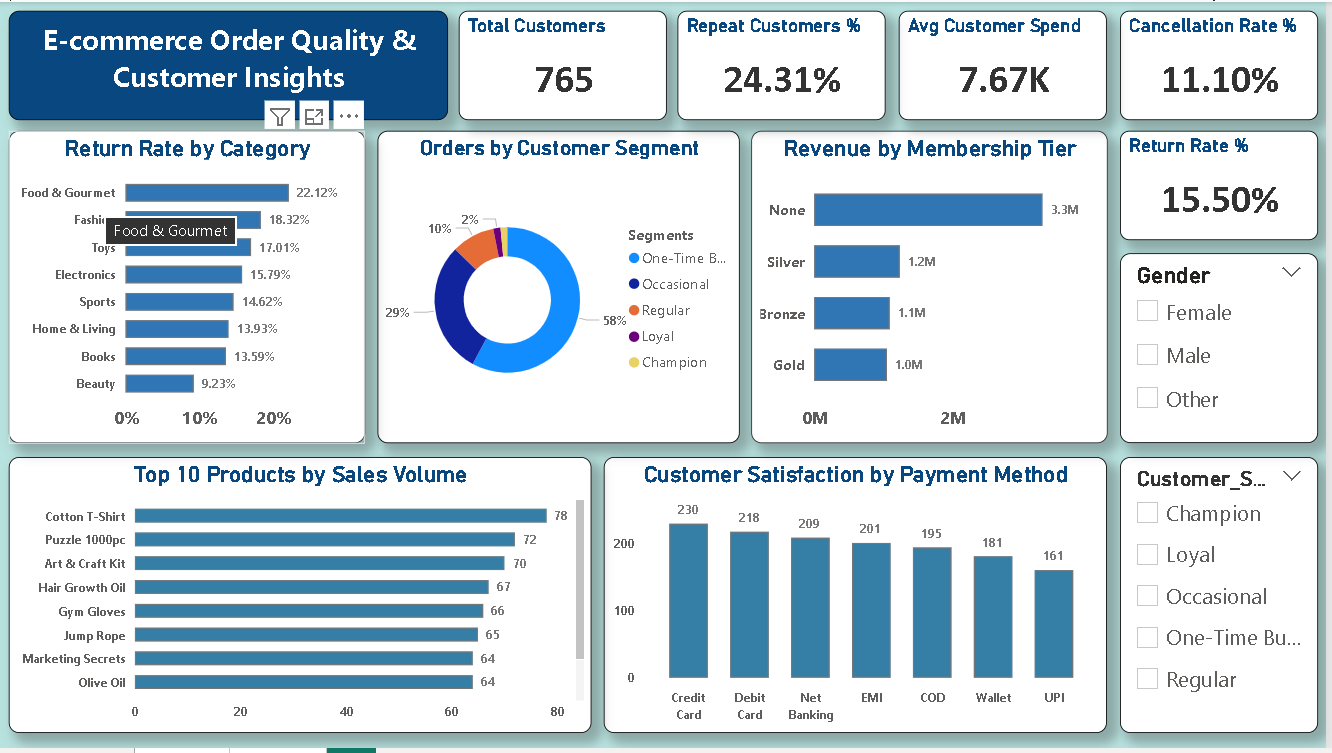

The page's visual inventory and layout, read from the dashboard file:
{"tool":"powerbi","page":{"name":"Order Quality & Customer Insight","canvas":[1280,720],"ordinal":1},"visuals":[{"type":"textbox","box":[8.6,8.6,423.9,106],"z":0},{"type":"columnChart","title":"Customer Satisfaction by Payment Method","fields":{"Category":["Orders_Raw.Payment_Method"],"Y":["Sum(Orders_Raw.Customer_Rating)"]},"box":[582.8,438.7,485.5,266.2],"z":1000},{"type":"donutChart","title":"Orders by Customer Segment","fields":{"Y":["Orders_Raw.Total Orders"],"Category":["Customer_Profiles.Customer_Segment"]},"box":[364.7,124.5,349.9,301.9],"z":2000},{"type":"barChart","title":"Top 10 Products by Sales Volume","fields":{"Category":["Orders_Raw.Product_Name"],"Y":["Sum(Orders_Raw.Quantity)"]},"box":[8.2,439.1,562.6,266.2],"z":3000},{"type":"barChart","title":"Return Rate by Category","fields":{"Y":["Orders_Raw.Return Rate %"],"Category":["Orders_Raw.Category"]},"box":[8.6,124.5,343.8,301.9],"z":4000},{"type":"barChart","title":"Revenue by Membership Tier","fields":{"Category":["Orders_Raw.Membership_Tier"],"Y":["Orders_Raw.Total Revenue"]},"box":[724.5,124.5,343.8,301.9],"z":5000},{"type":"card","title":"Cancellation Rate %","fields":{"Values":["Orders_Raw.Cancellation Order %"]},"box":[1080.6,8.6,191,106],"z":6000},{"type":"card","title":"Avg Customer Spend","fields":{"Values":["Customer_Profiles.Average Customer Spend"]},"box":[867.5,8.6,200.8,106],"z":7000},{"type":"card","title":"Total Customers","fields":{"Values":["Count(Customer_Profiles.Customer_ID)"]},"box":[442.4,8.6,200.8,106],"z":8000},{"type":"card","title":"Repeat Customers %","fields":{"Values":["Customer_Profiles.Repeat Cutomers %"]},"box":[654.3,8.6,200.8,106],"z":9000},{"type":"slicer","title":"Customer Segment","fields":{"Values":["Customer_Profiles.Customer_Segment"]},"box":[1080.6,438.7,191,266.2],"z":10000},{"type":"card","title":"Return Rate %","fields":{"Values":["Orders_Raw.Return Rate %"]},"box":[1080.6,124.5,191,106],"z":11000},{"type":"slicer","fields":{"Values":["Customer_Profiles.Gender"]},"box":[1080.6,242.7,191,183.6],"z":12000}]}

Visuals, with their boxes in screenshot pixels (x1, y1, x2, y2), scaled from the page's 1280x720 canvas onto the 1332x753 screenshot:
textbox: bbox=(9, 9, 450, 120)
"Customer Satisfaction by Payment Method" columnChart: bbox=(606, 459, 1112, 737)
"Orders by Customer Segment" donutChart: bbox=(380, 130, 744, 446)
"Top 10 Products by Sales Volume" barChart: bbox=(9, 459, 594, 738)
"Return Rate by Category" barChart: bbox=(9, 130, 367, 446)
"Revenue by Membership Tier" barChart: bbox=(754, 130, 1112, 446)
"Cancellation Rate %" card: bbox=(1124, 9, 1323, 120)
"Avg Customer Spend" card: bbox=(903, 9, 1112, 120)
"Total Customers" card: bbox=(460, 9, 669, 120)
"Repeat Customers %" card: bbox=(681, 9, 890, 120)
"Customer Segment" slicer: bbox=(1124, 459, 1323, 737)
"Return Rate %" card: bbox=(1124, 130, 1323, 241)
slicer - Customer_Profiles.Gender: bbox=(1124, 254, 1323, 446)
